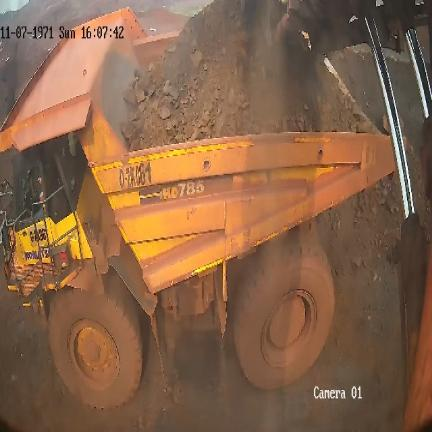pile: (124, 0, 378, 148)
